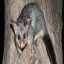opossum: (10, 3, 53, 53)
